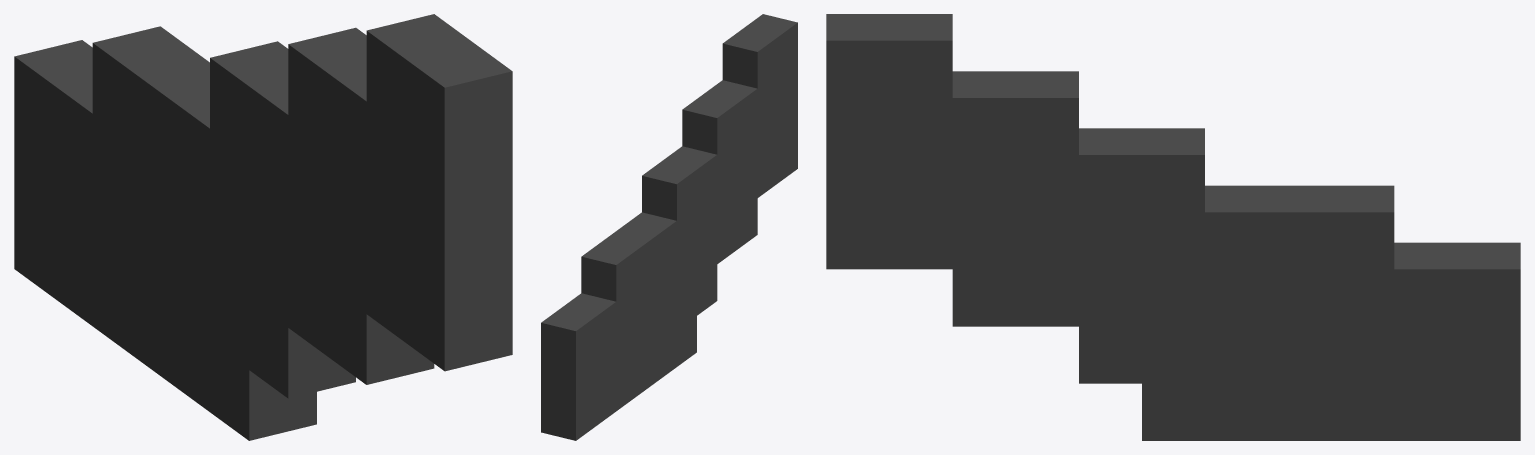
The picture shows the model from 3 angles, left to right: view 1: azimuth 30°, elevation 25°; view 2: azimuth 150°, elevation 25°; view 3: azimuth 270°, elevation 25°; orthographic projection. The views are drawn at different scales.
Visible parts, largest first — view 1: TV1; view 2: TV1; view 3: TV1.
Part boxes in pixels (box(x1,y1,x2,y2)): TV1: box(14, 14, 512, 440); TV1: box(541, 14, 797, 440); TV1: box(826, 14, 1520, 440).
Bounding box in the file's own units: 1 × 7 × 11.
1 material, 1 textured.
